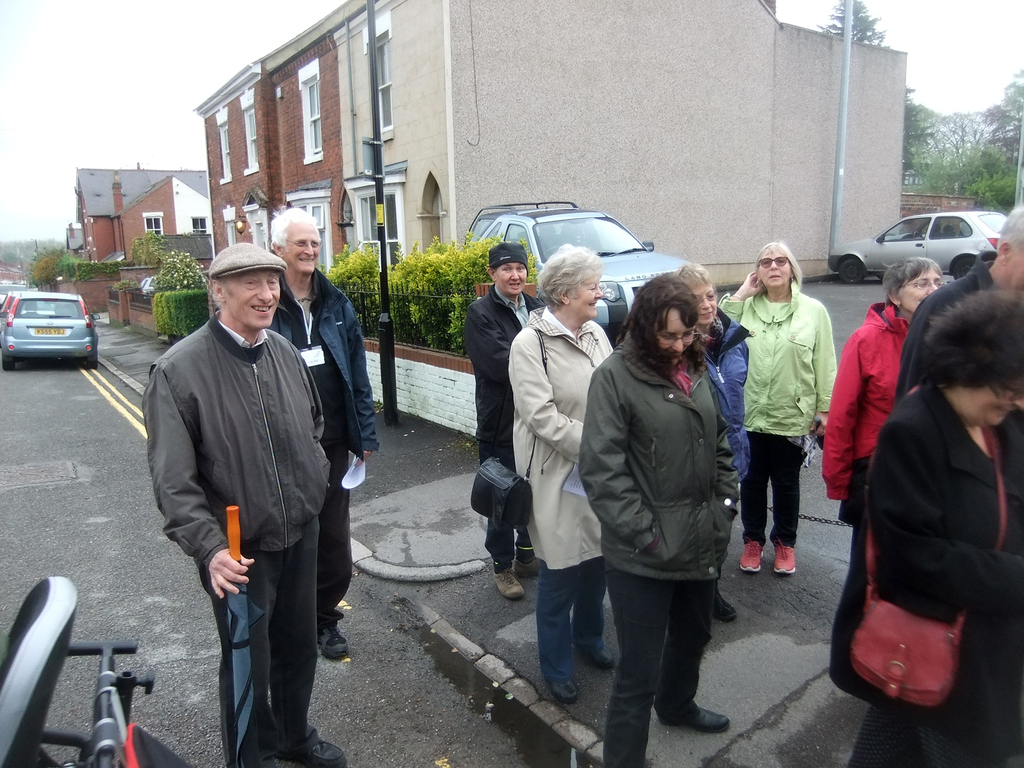mobil: (824, 210, 1010, 293), (1, 289, 104, 374)
